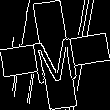M_N: (28, 27, 82, 83)
